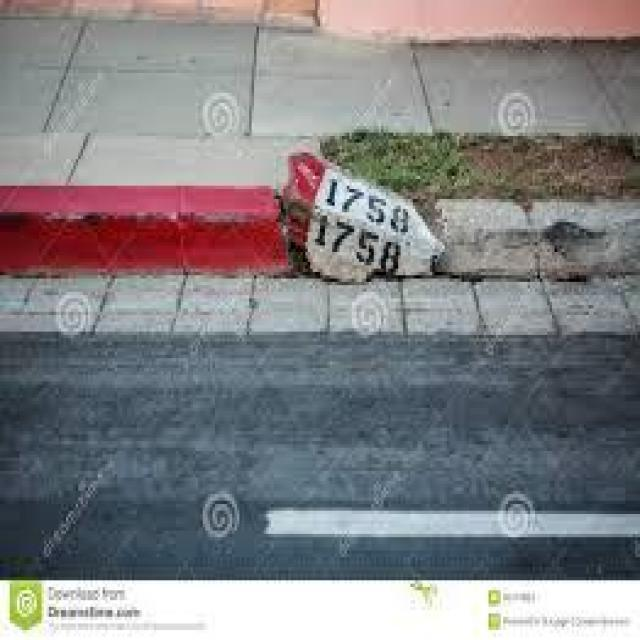bump: (0, 145, 289, 281)
